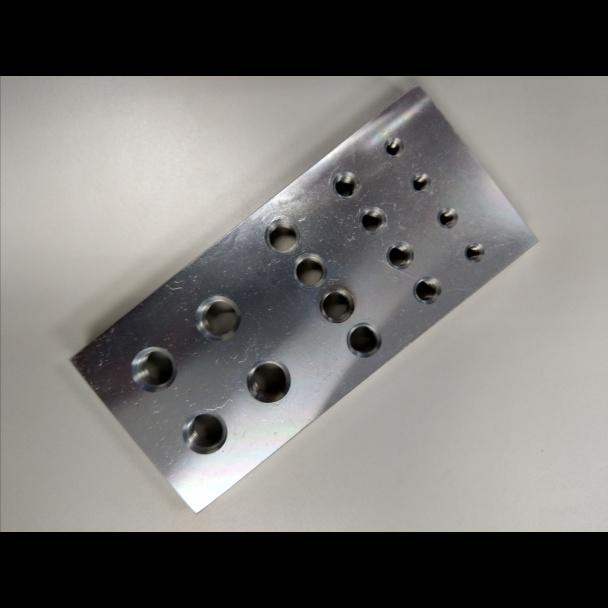hole: (129, 344, 177, 394), (193, 294, 242, 342), (180, 408, 228, 456), (245, 357, 291, 403), (345, 321, 382, 358), (318, 287, 355, 324), (264, 217, 300, 255), (292, 252, 328, 288), (357, 205, 387, 236), (385, 240, 414, 270), (412, 276, 441, 305), (332, 170, 359, 200), (383, 135, 406, 158), (436, 206, 458, 229), (463, 241, 484, 264), (410, 172, 431, 193)
